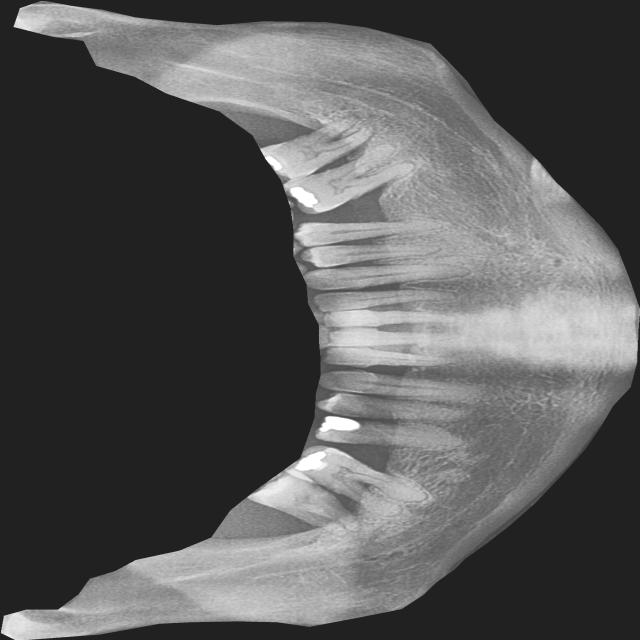mandibula: (1, 0, 640, 640)
